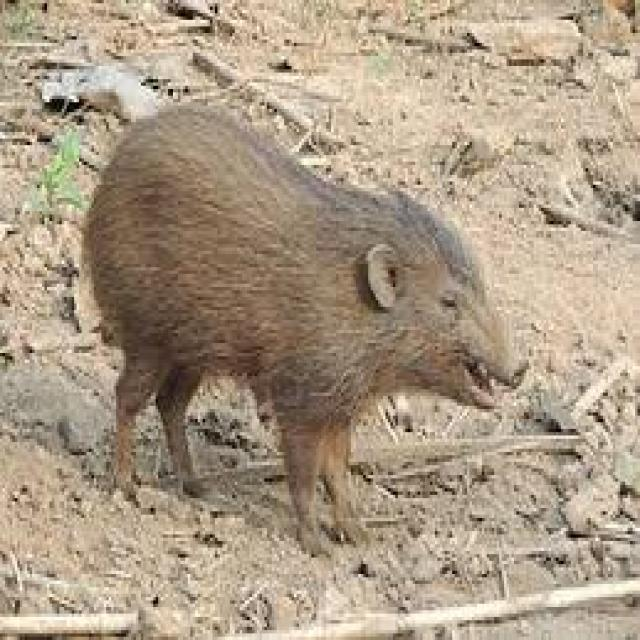boar: (49, 64, 541, 588)
